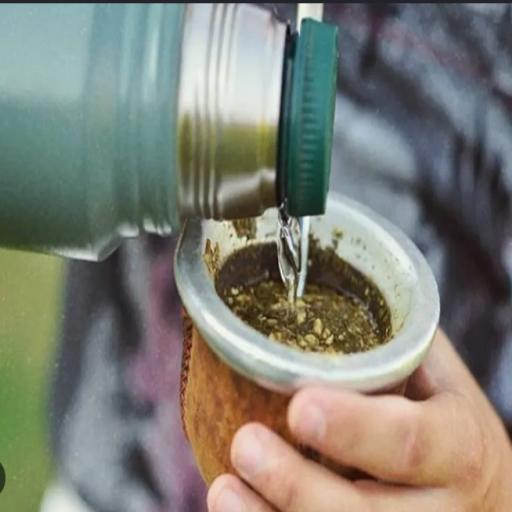mate: (175, 197, 439, 484)
termo: (0, 3, 337, 260)
